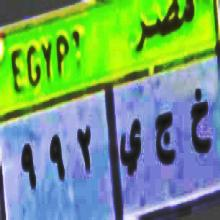2: (76, 123, 96, 173)
9: (46, 121, 68, 187), (19, 136, 38, 198)
jeem: (152, 105, 179, 181)
khaa: (187, 81, 213, 167)
yaa: (120, 117, 144, 177)
